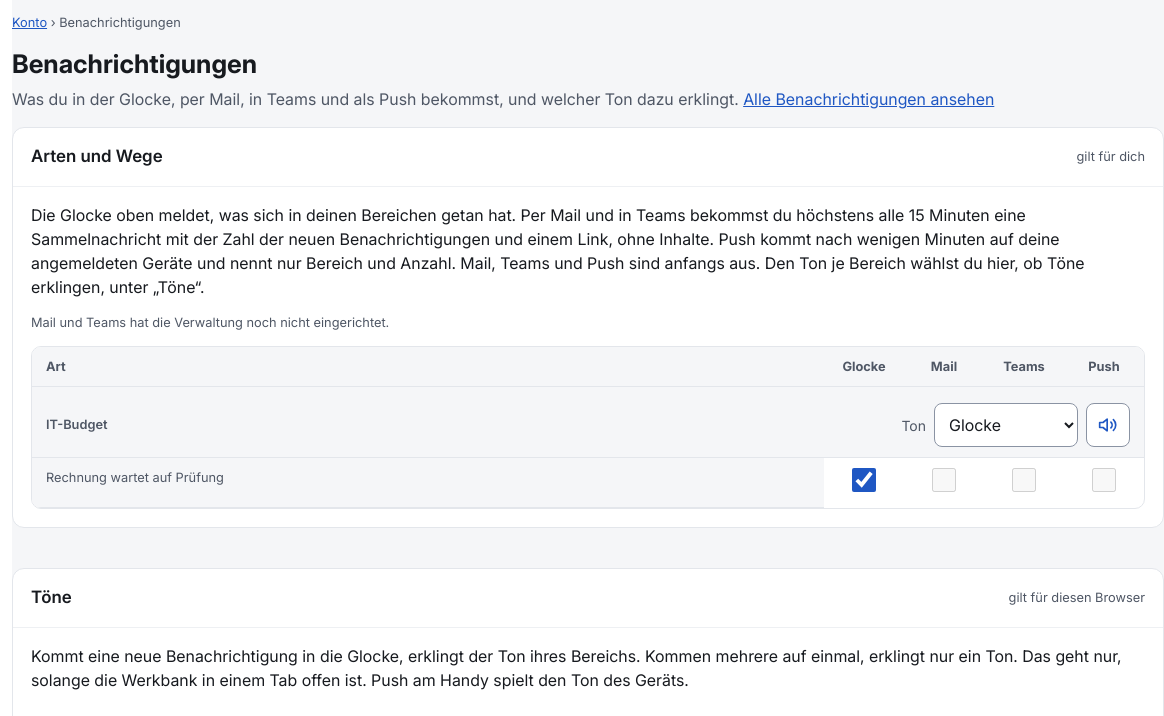
Test: NotificationSettingsPage › wählt den Ton je Bereich und merkt ihn sich im Browser
Expected: the heading "Benachrichtigungen" is shown, [12,48,257,79]
Select "Gong" in the dropdown named "Ton für IT-Budget" at coordinates (1006, 425), box [934,403,1078,447]
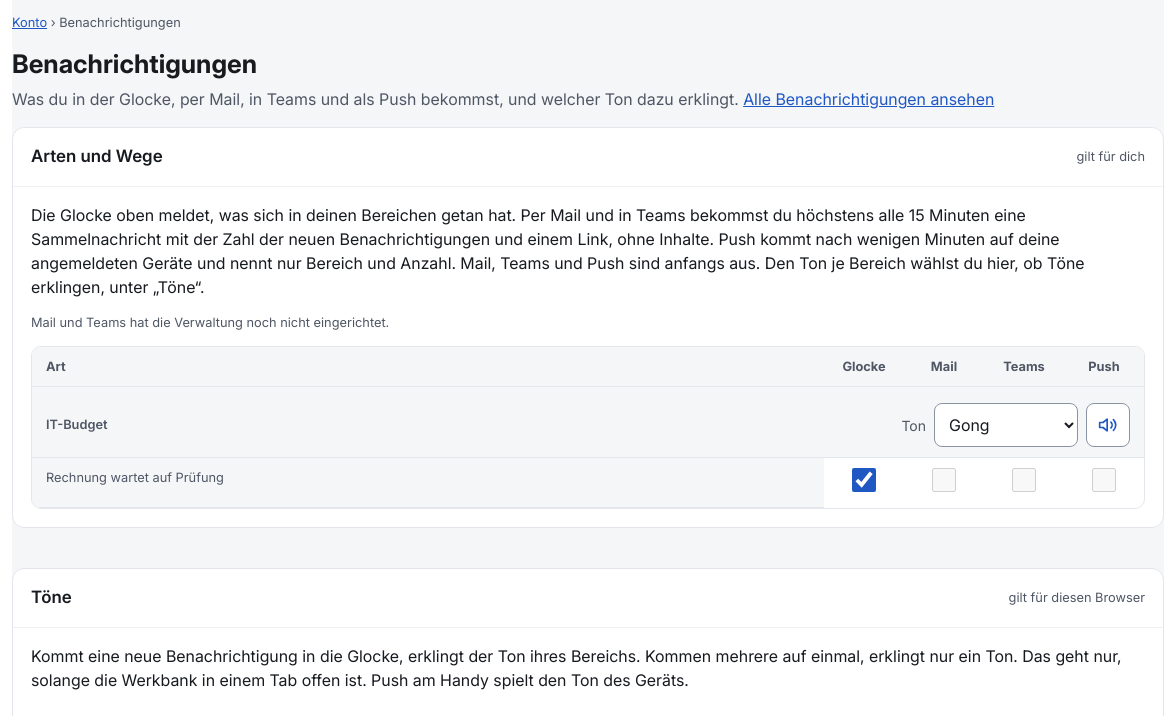
Expected: the button named "Ton für IT-Budget anhören: Gong" is enabled, [1086,403,1130,447]
Select "Kein Ton" in the dropdown named "Ton für IT-Budget" at coordinates (1006, 425), box [934,403,1078,447]
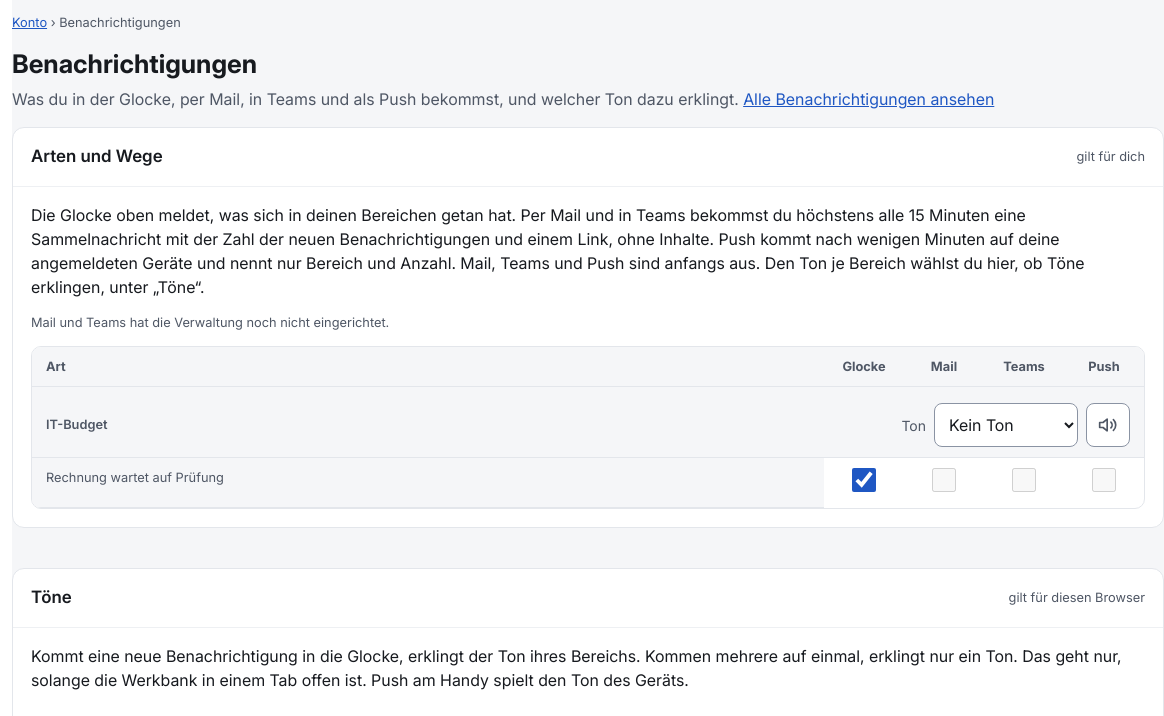
Expected: the button named "Ton für IT-Budget anhören: Kein Ton" is disabled, [1086,403,1130,447]
